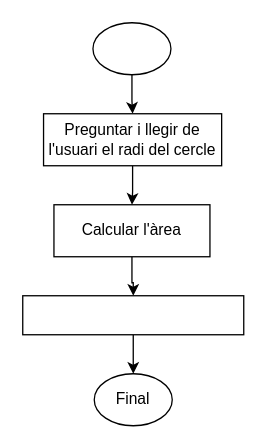
This 267x448 diagram has some shape labels left out. The centre of each missing label's shape, as x and y in pixels:
"Inici" goes at (131,48).
"Mostrar el resultat a l'usuari" goes at (132,314).
